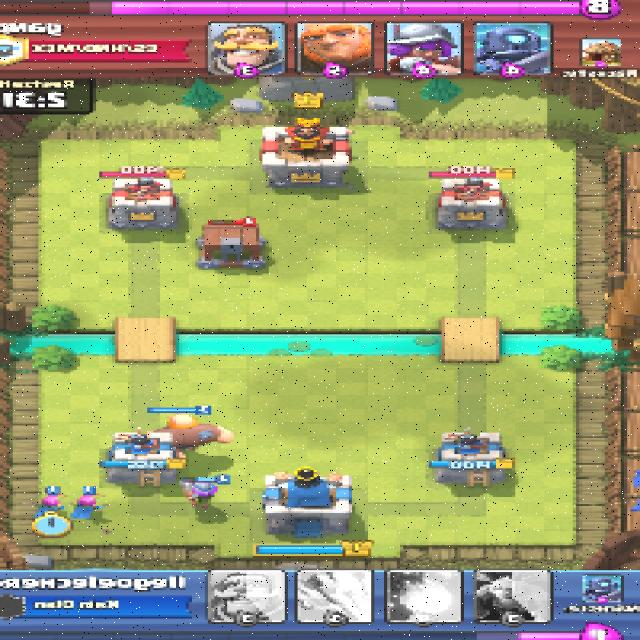Player-Archer: (36, 494, 67, 522), (72, 495, 100, 518)
Player-Giant: (150, 415, 233, 452)
Player-GoblinCage: (196, 223, 269, 270)
Player-Musketeer: (180, 477, 222, 507)
